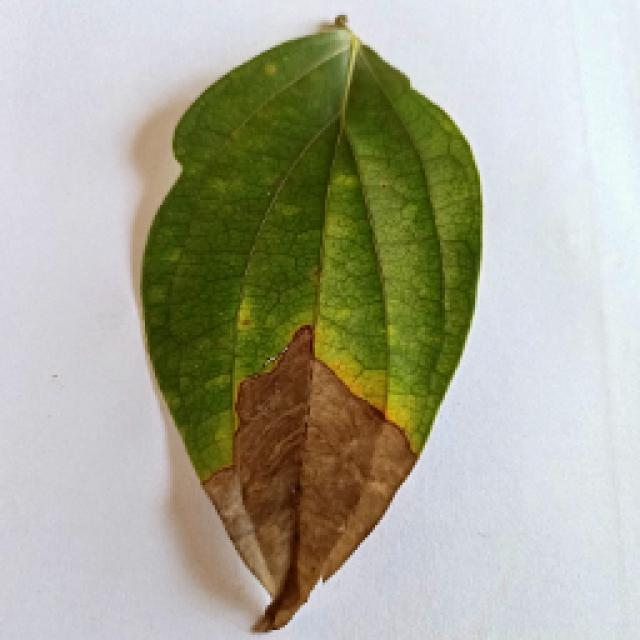footrot: (138, 28, 480, 628)
